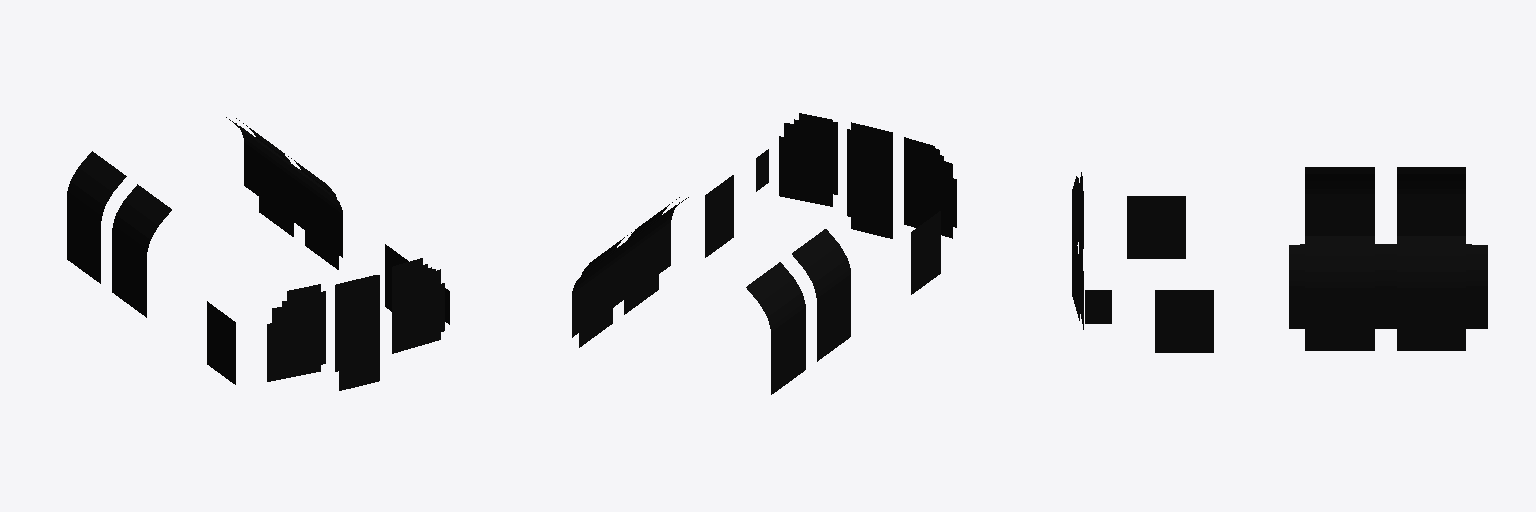
3 views of the same model, side by side, from view 1: azimuth 30°, elevation 25°; view 2: azimuth 150°, elevation 25°; view 3: azimuth 270°, elevation 25° (orthographic).
Visible parts, largest first — view 1: head_transperent, door_left_transperent_sides, door_right_transperent_sides, window_transperent, end_transperent, window_middle_transperent, door_right_transperent, door_left_transperent; view 2: end_transperent, head_transperent, window_transperent, door_right_transperent_sides, door_left_transperent_sides, door_left_transperent, door_right_transperent; view 3: head_transperent, door_left_transperent, door_right_transperent, door_left_transperent_sides, door_right_transperent_sides, window_transperent, window_middle_transperent, end_transperent.
Part boxes in pixels (x1,y1,x2,y2): head_transperent: (207, 244, 449, 390); door_left_transperent_sides: (112, 184, 171, 317); door_right_transperent_sides: (67, 151, 126, 283); window_transperent: (226, 117, 342, 257); end_transperent: (267, 258, 440, 381); window_middle_transperent: (236, 123, 337, 253); door_right_transperent: (236, 118, 293, 236); door_left_transperent: (284, 153, 338, 269); end_transperent: (779, 113, 952, 238); head_transperent: (705, 119, 956, 294); window_transperent: (572, 197, 688, 337); door_right_transperent_sides: (746, 262, 805, 394); door_left_transperent_sides: (792, 229, 850, 361); door_left_transperent: (624, 197, 679, 314); door_right_transperent: (579, 232, 631, 347); head_transperent: (1072, 176, 1213, 352); door_left_transperent: (1305, 236, 1374, 350); door_right_transperent: (1397, 236, 1465, 350); door_left_transperent_sides: (1305, 167, 1374, 235); door_right_transperent_sides: (1397, 167, 1465, 235); window_transperent: (1289, 245, 1487, 328); window_middle_transperent: (1300, 244, 1471, 328); end_transperent: (1079, 172, 1083, 329).
Bounding box in the file's own units: 2.59 × 1.39 × 4.84.
Materials: 3 (1 with a texture image).